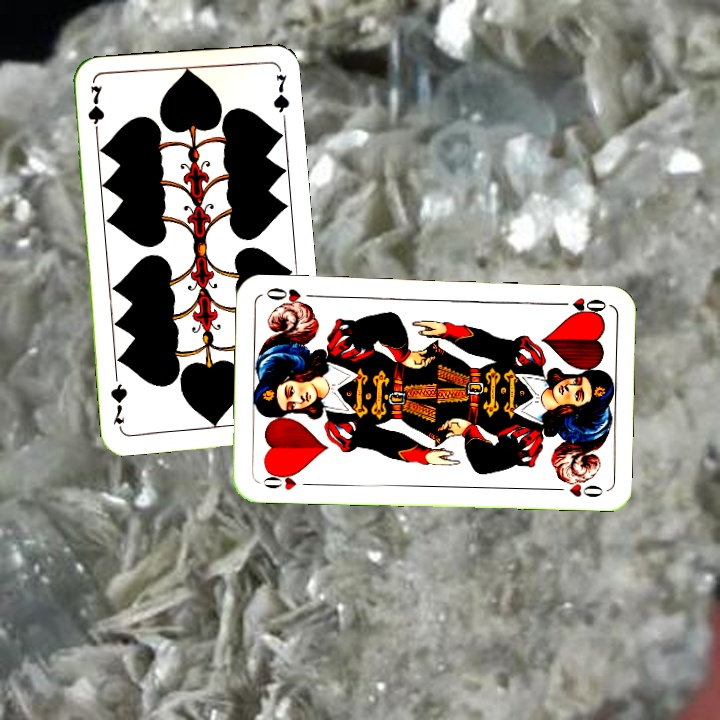G7: (84, 81, 107, 141)
HO: (256, 468, 315, 493), (551, 294, 609, 316)
